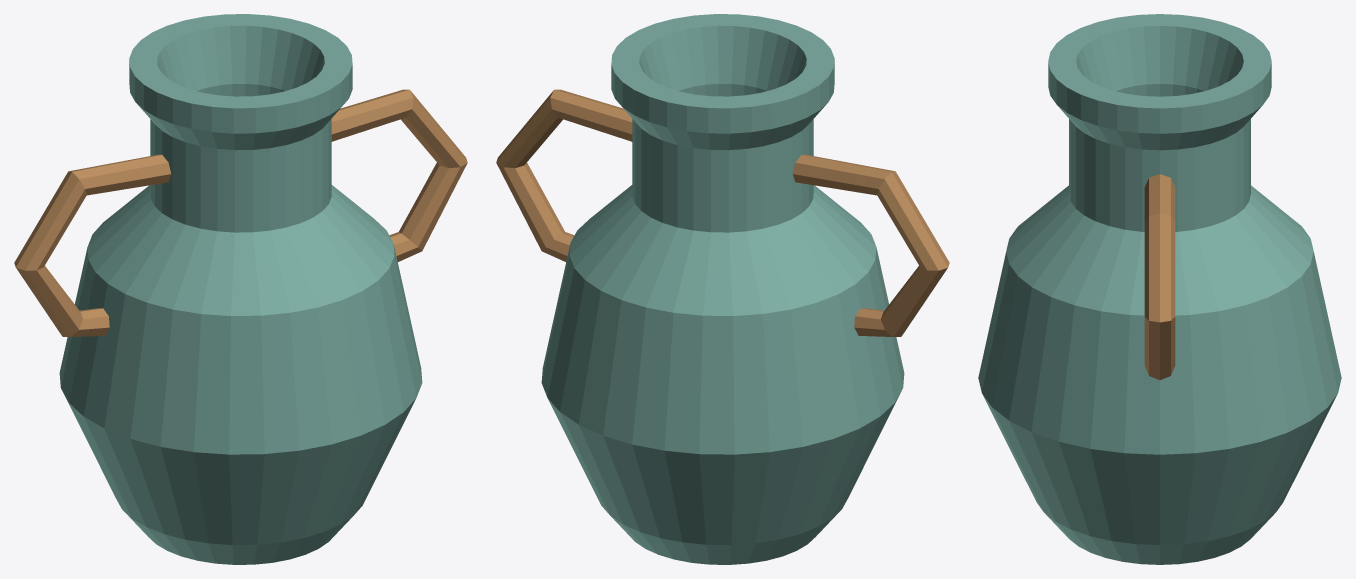
The picture shows the model from 3 angles, left to right: view 1: azimuth 30°, elevation 25°; view 2: azimuth 150°, elevation 25°; view 3: azimuth 270°, elevation 25°; orthographic projection.
Parts seen in each view (by area): view 1: ceramics-amphora-01; view 2: ceramics-amphora-01; view 3: ceramics-amphora-01.
Boxes of the visible parts, x1=… form: ceramics-amphora-01: x1=14, y1=14, x2=467, y2=564; ceramics-amphora-01: x1=496, y1=14, x2=949, y2=564; ceramics-amphora-01: x1=978, y1=14, x2=1341, y2=564.
Bounding box in the file's own units: 0.744 × 0.73 × 0.52.
